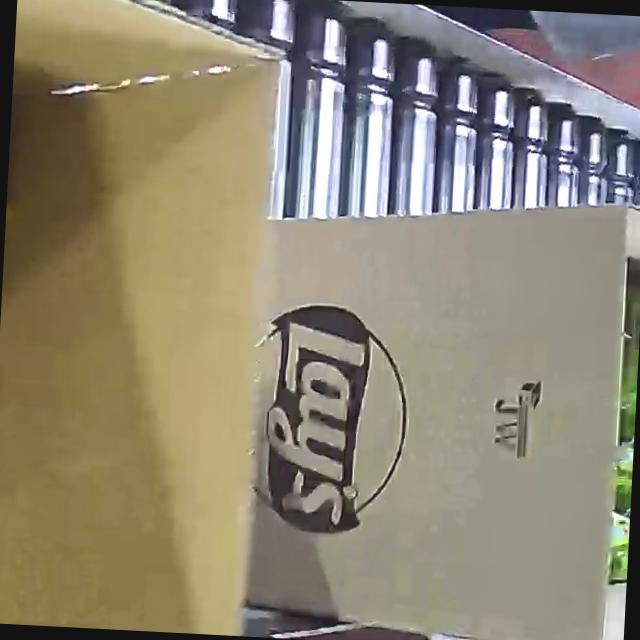yogurt: (559, 252, 640, 638)
